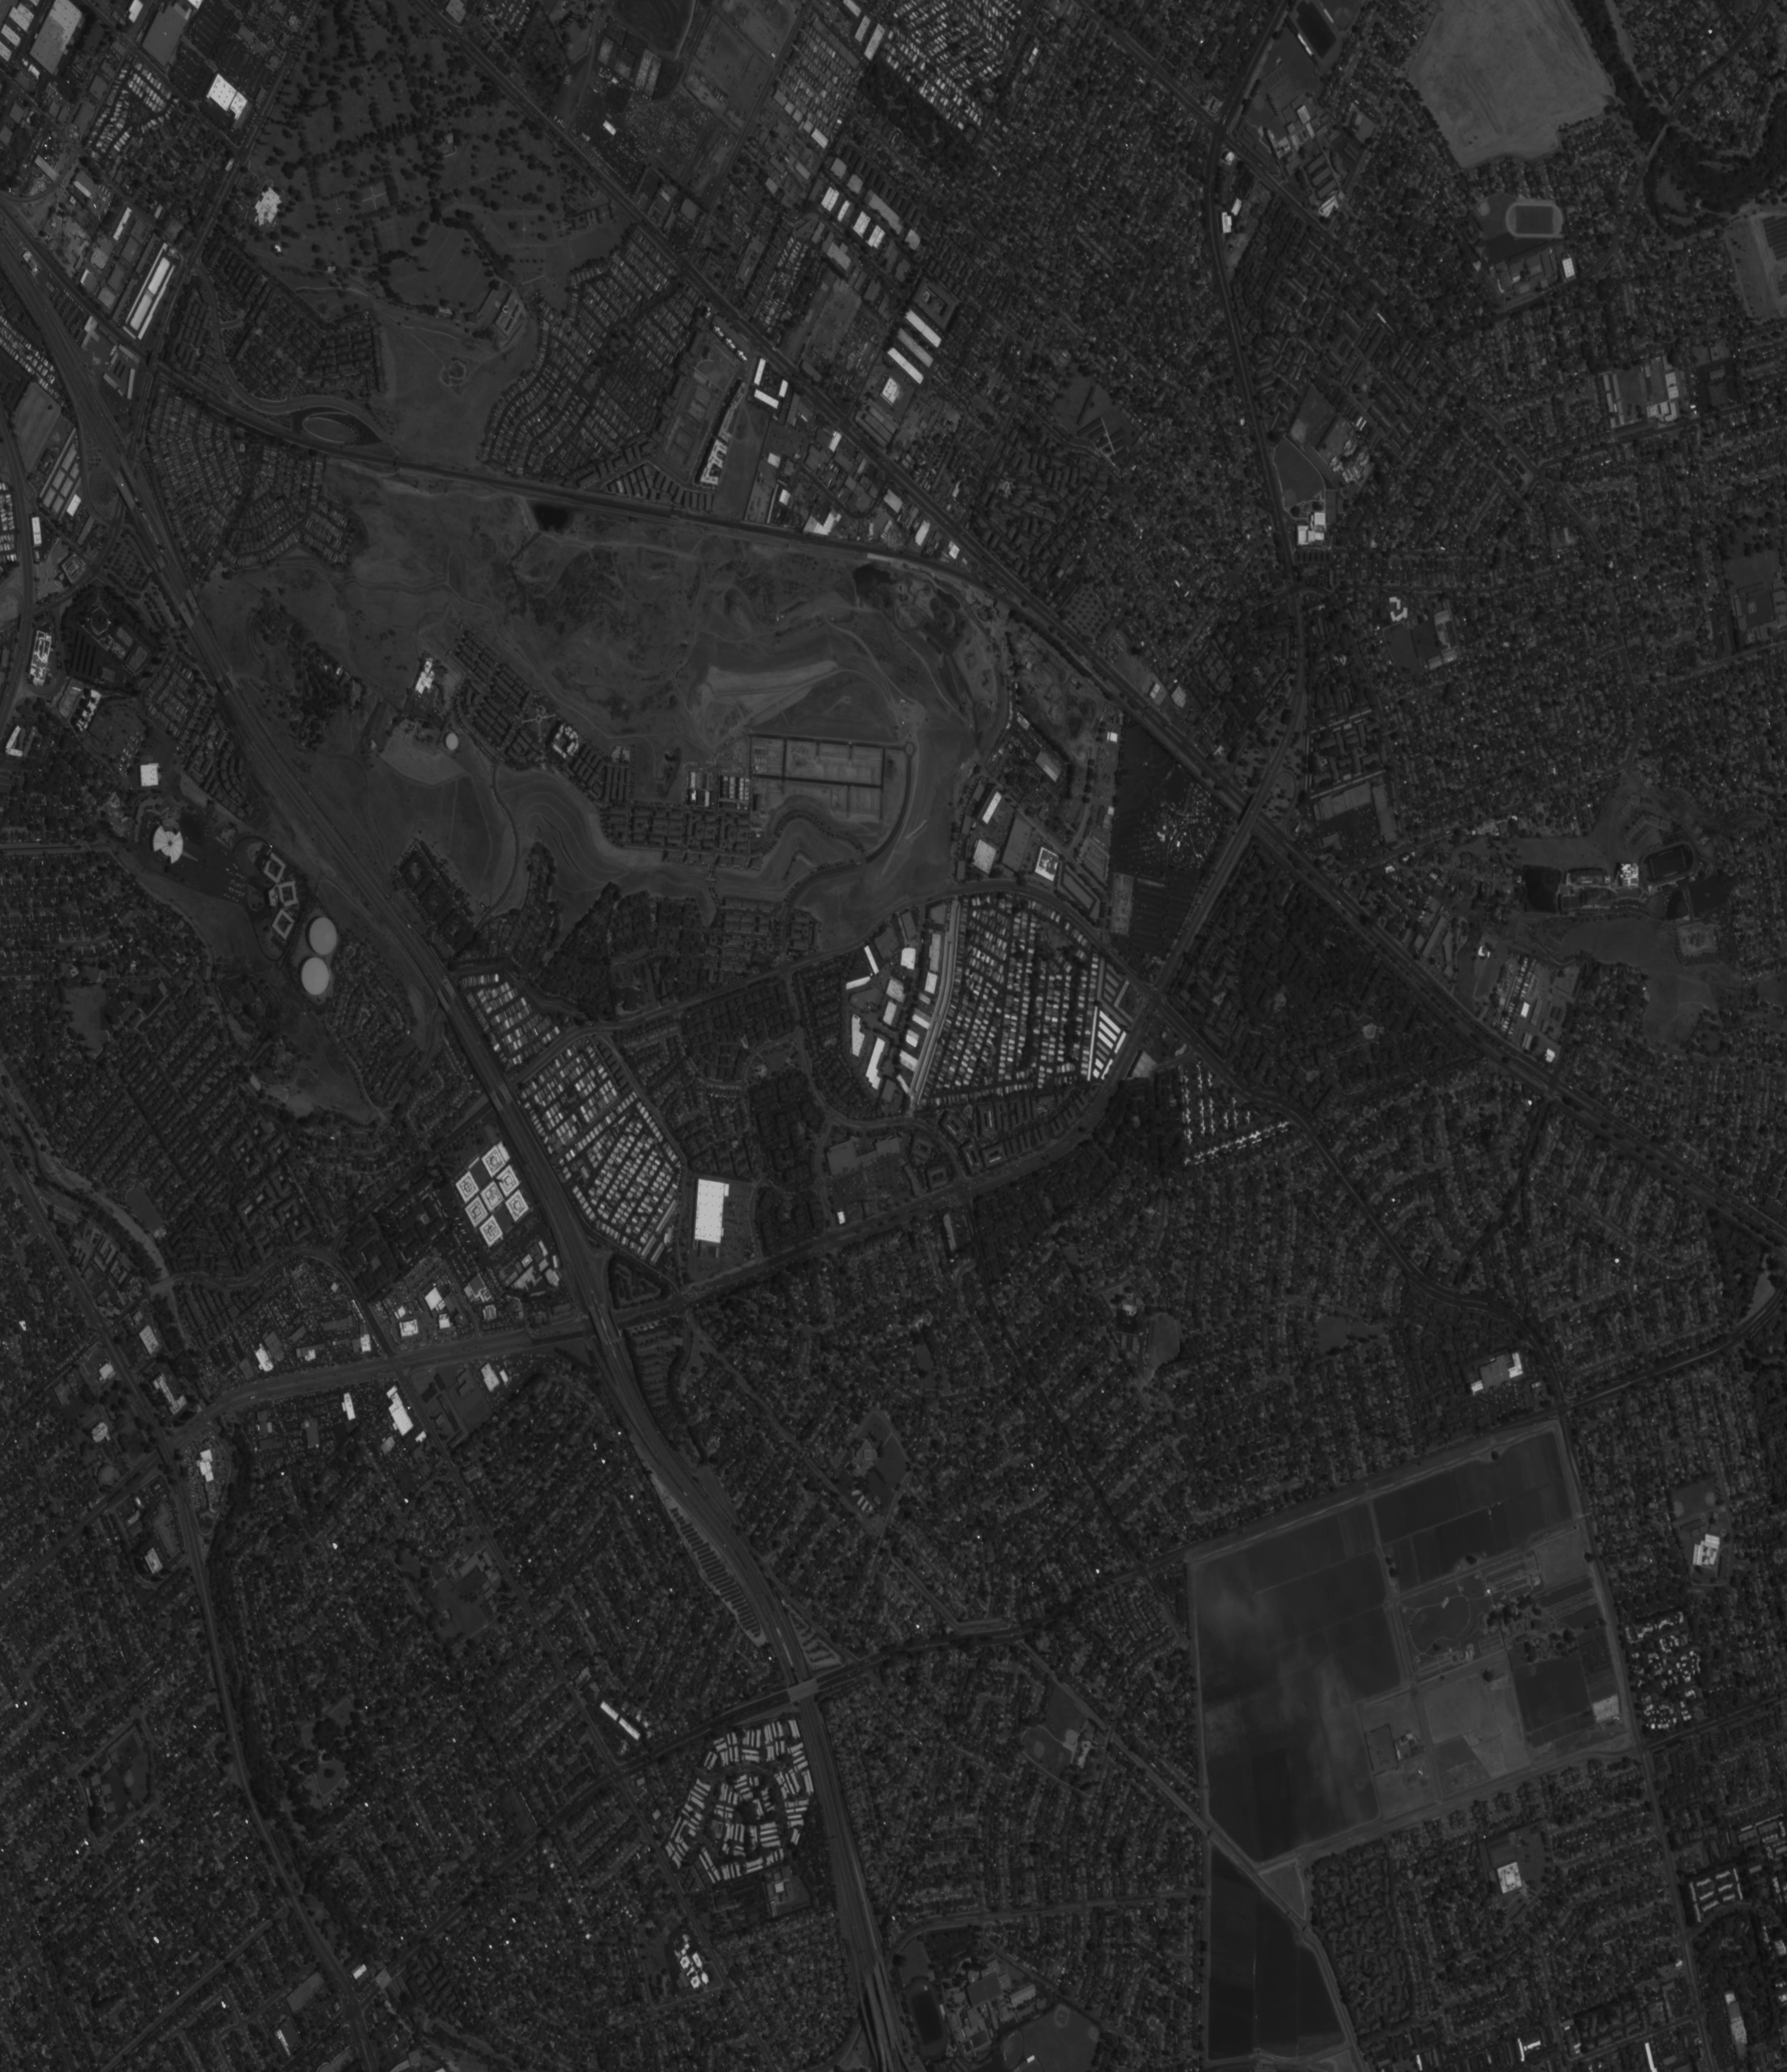baseball diamond: (1290, 418, 1311, 448), (1537, 869, 1560, 895), (1027, 1735, 1049, 1764), (1061, 1725, 1082, 1746), (1279, 486, 1301, 506), (1332, 7, 1353, 26), (1001, 2033, 1017, 2058), (1054, 2003, 1068, 2028), (1249, 93, 1267, 113), (1086, 2023, 1100, 2046), (122, 1767, 137, 1787), (1477, 197, 1493, 217), (1671, 1501, 1687, 1521), (1702, 1491, 1718, 1510)
bridge: (150, 1276, 174, 1295)
ground track field: (904, 1977, 953, 2060), (1294, 2, 1341, 63), (1639, 840, 1697, 886), (1503, 199, 1563, 236)
storage tank: (305, 916, 338, 955), (298, 958, 331, 997), (444, 733, 460, 751)
